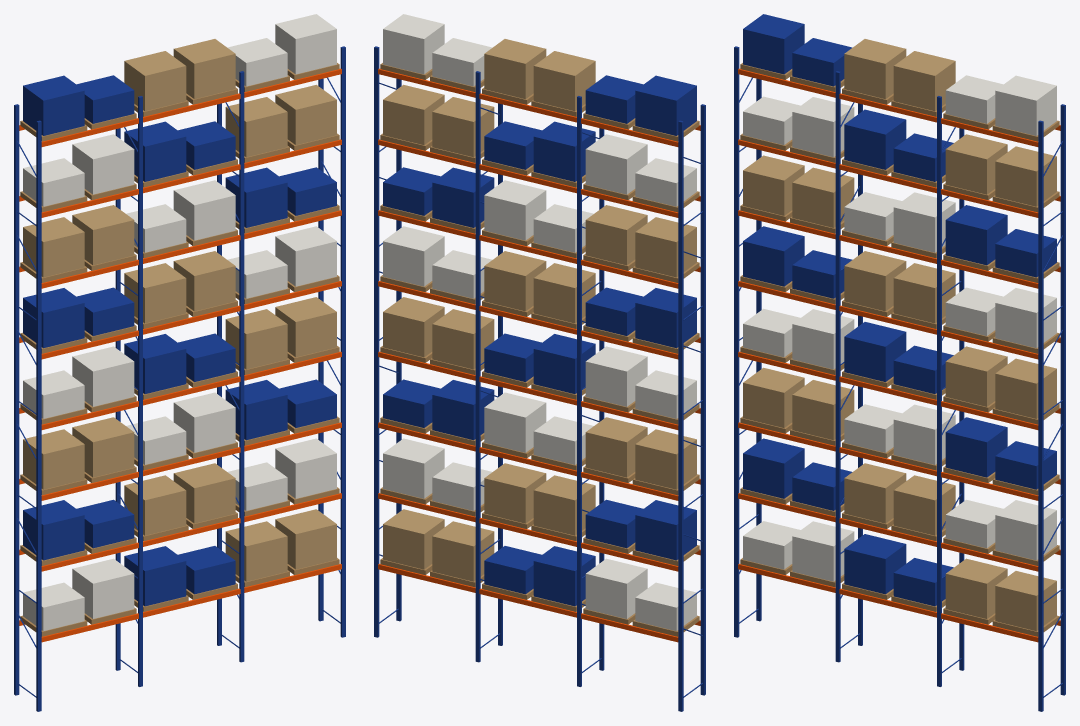
Rendered from industrial.racking.high_bay.glb.
3 renders of one model, left to right at view 1: azimuth 30°, elevation 25°; view 2: azimuth 150°, elevation 25°; view 3: azimuth 330°, elevation 25°, orthographic.
Visible parts, largest first — view 1: main__plastic_blue, main__plywood, main__fabric_white, main__softwood, main__hivis_orange; view 2: main__plastic_blue, main__plywood, main__fabric_white, main__softwood, main__hivis_orange; view 3: main__plastic_blue, main__plywood, main__fabric_white, main__softwood, main__hivis_orange.
Part boxes in pixels (<box>): main__plastic_blue: <box>14,46,345,711</box>; main__plywood: <box>23,39,336,581</box>; main__fabric_white: <box>23,14,336,631</box>; main__softwood: <box>20,63,339,636</box>; main__hivis_orange: <box>19,68,341,642</box>; main__plastic_blue: <box>374,46,705,711</box>; main__plywood: <box>383,39,696,581</box>; main__fabric_white: <box>383,14,696,631</box>; main__softwood: <box>380,63,699,636</box>; main__hivis_orange: <box>378,68,700,642</box>; main__plastic_blue: <box>734,14,1065,711</box>; main__plywood: <box>743,39,1056,631</box>; main__fabric_white: <box>743,75,1056,581</box>; main__softwood: <box>740,63,1059,636</box>; main__hivis_orange: <box>738,68,1060,642</box>.
Size of the model in its own units: 8.2 by 15.48 by 1.1.
